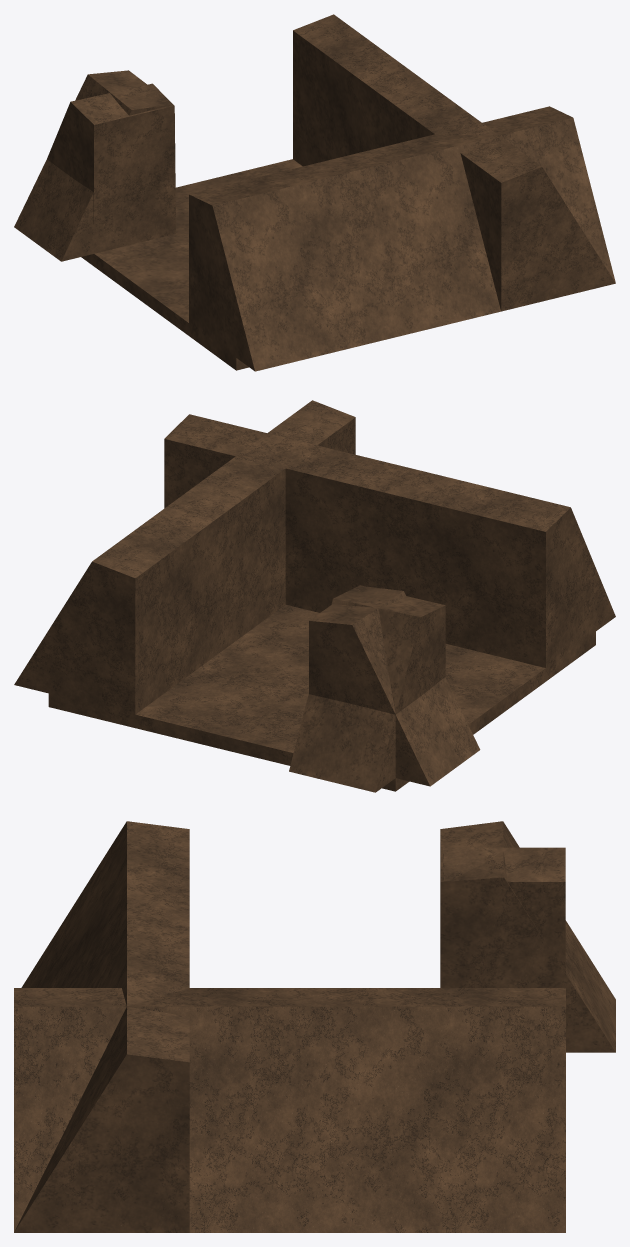
The model's file is SM_Trinchera_Esquina.fbx.
3 views of the same model, one above another, from view 1: azimuth 30°, elevation 25°; view 2: azimuth 150°, elevation 25°; view 3: azimuth 270°, elevation 25° (orthographic). The views are drawn at different scales.
Visible parts, largest first — view 1: SM_Trinchera_Esquina; view 2: SM_Trinchera_Esquina; view 3: SM_Trinchera_Esquina.
Boxes of the visible parts, x1,y1,x2,y2 form: SM_Trinchera_Esquina: (14, 14, 615, 371); SM_Trinchera_Esquina: (14, 400, 615, 792); SM_Trinchera_Esquina: (14, 821, 615, 1232).
Size of what is drawn, in the model's own units: 4.8 by 4.8 by 1.72.
